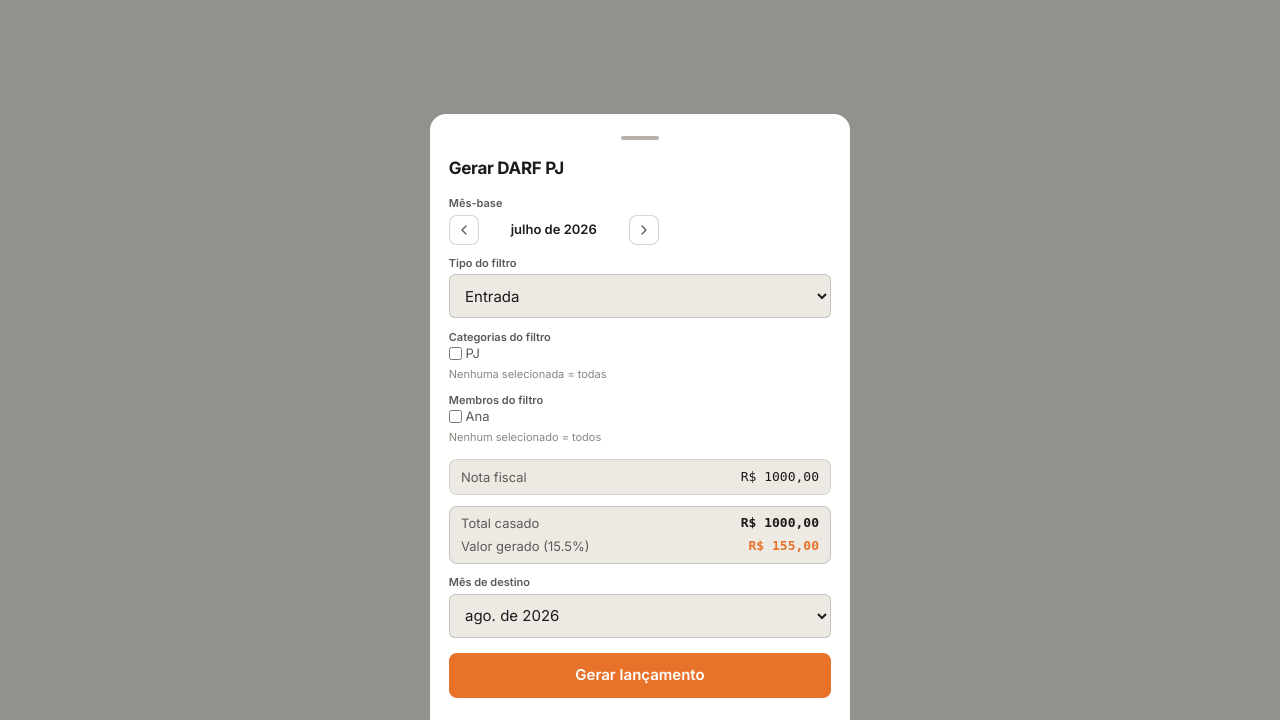
Test: FormulaPreviewModal › clears the selected categories when the filter kind changes
expect the text "Nota fiscal" is shown: met, box [461,468,527,486]
Click the checkbox labelled "PJ".
click(455, 354)  # box [449,347,462,360]
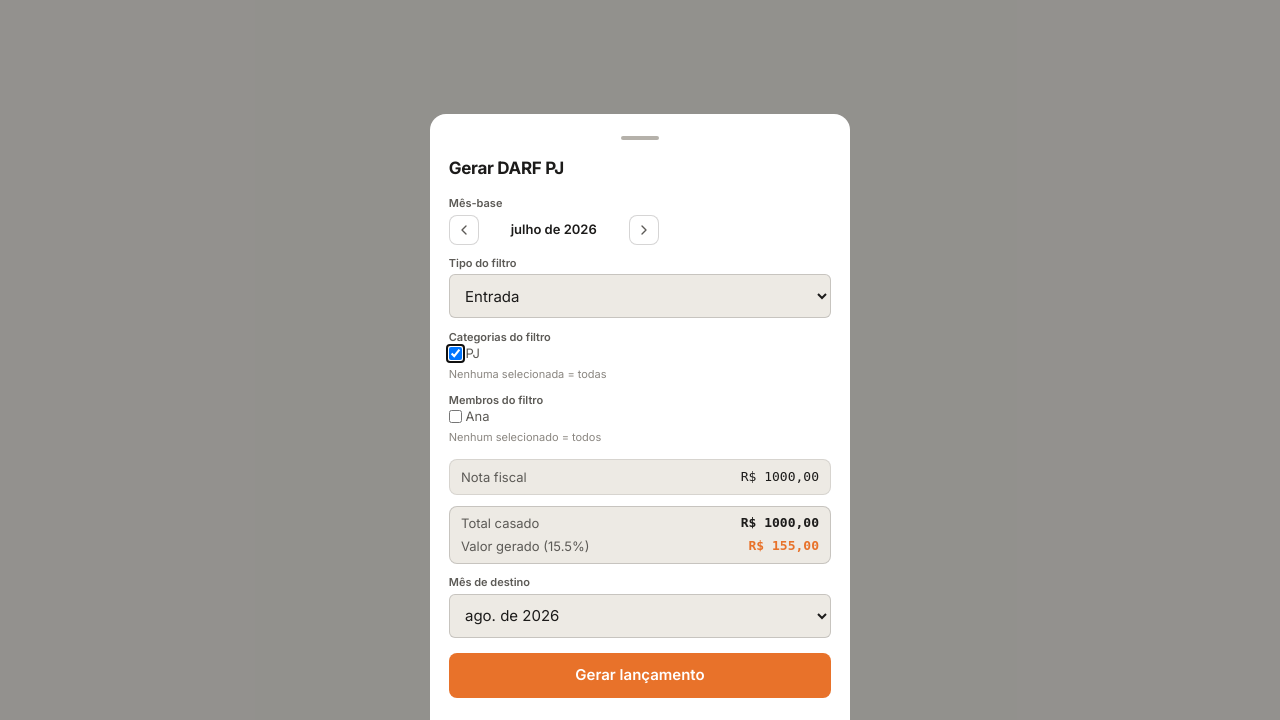
Select "Saída" in the dropdown labelled "Tipo do filtro" at (640, 296), box [449,274,831,318]
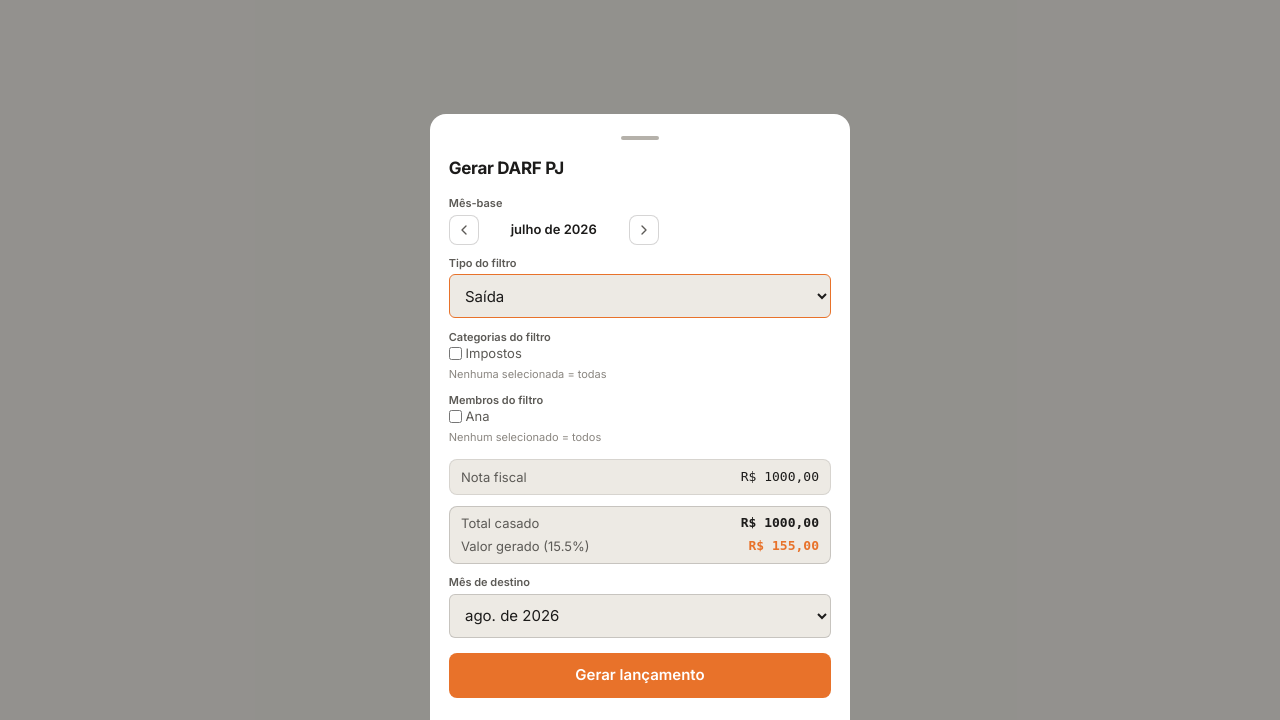
expect the checkbox labelled "Impostos" is not checked: met, box [449,347,462,360]
